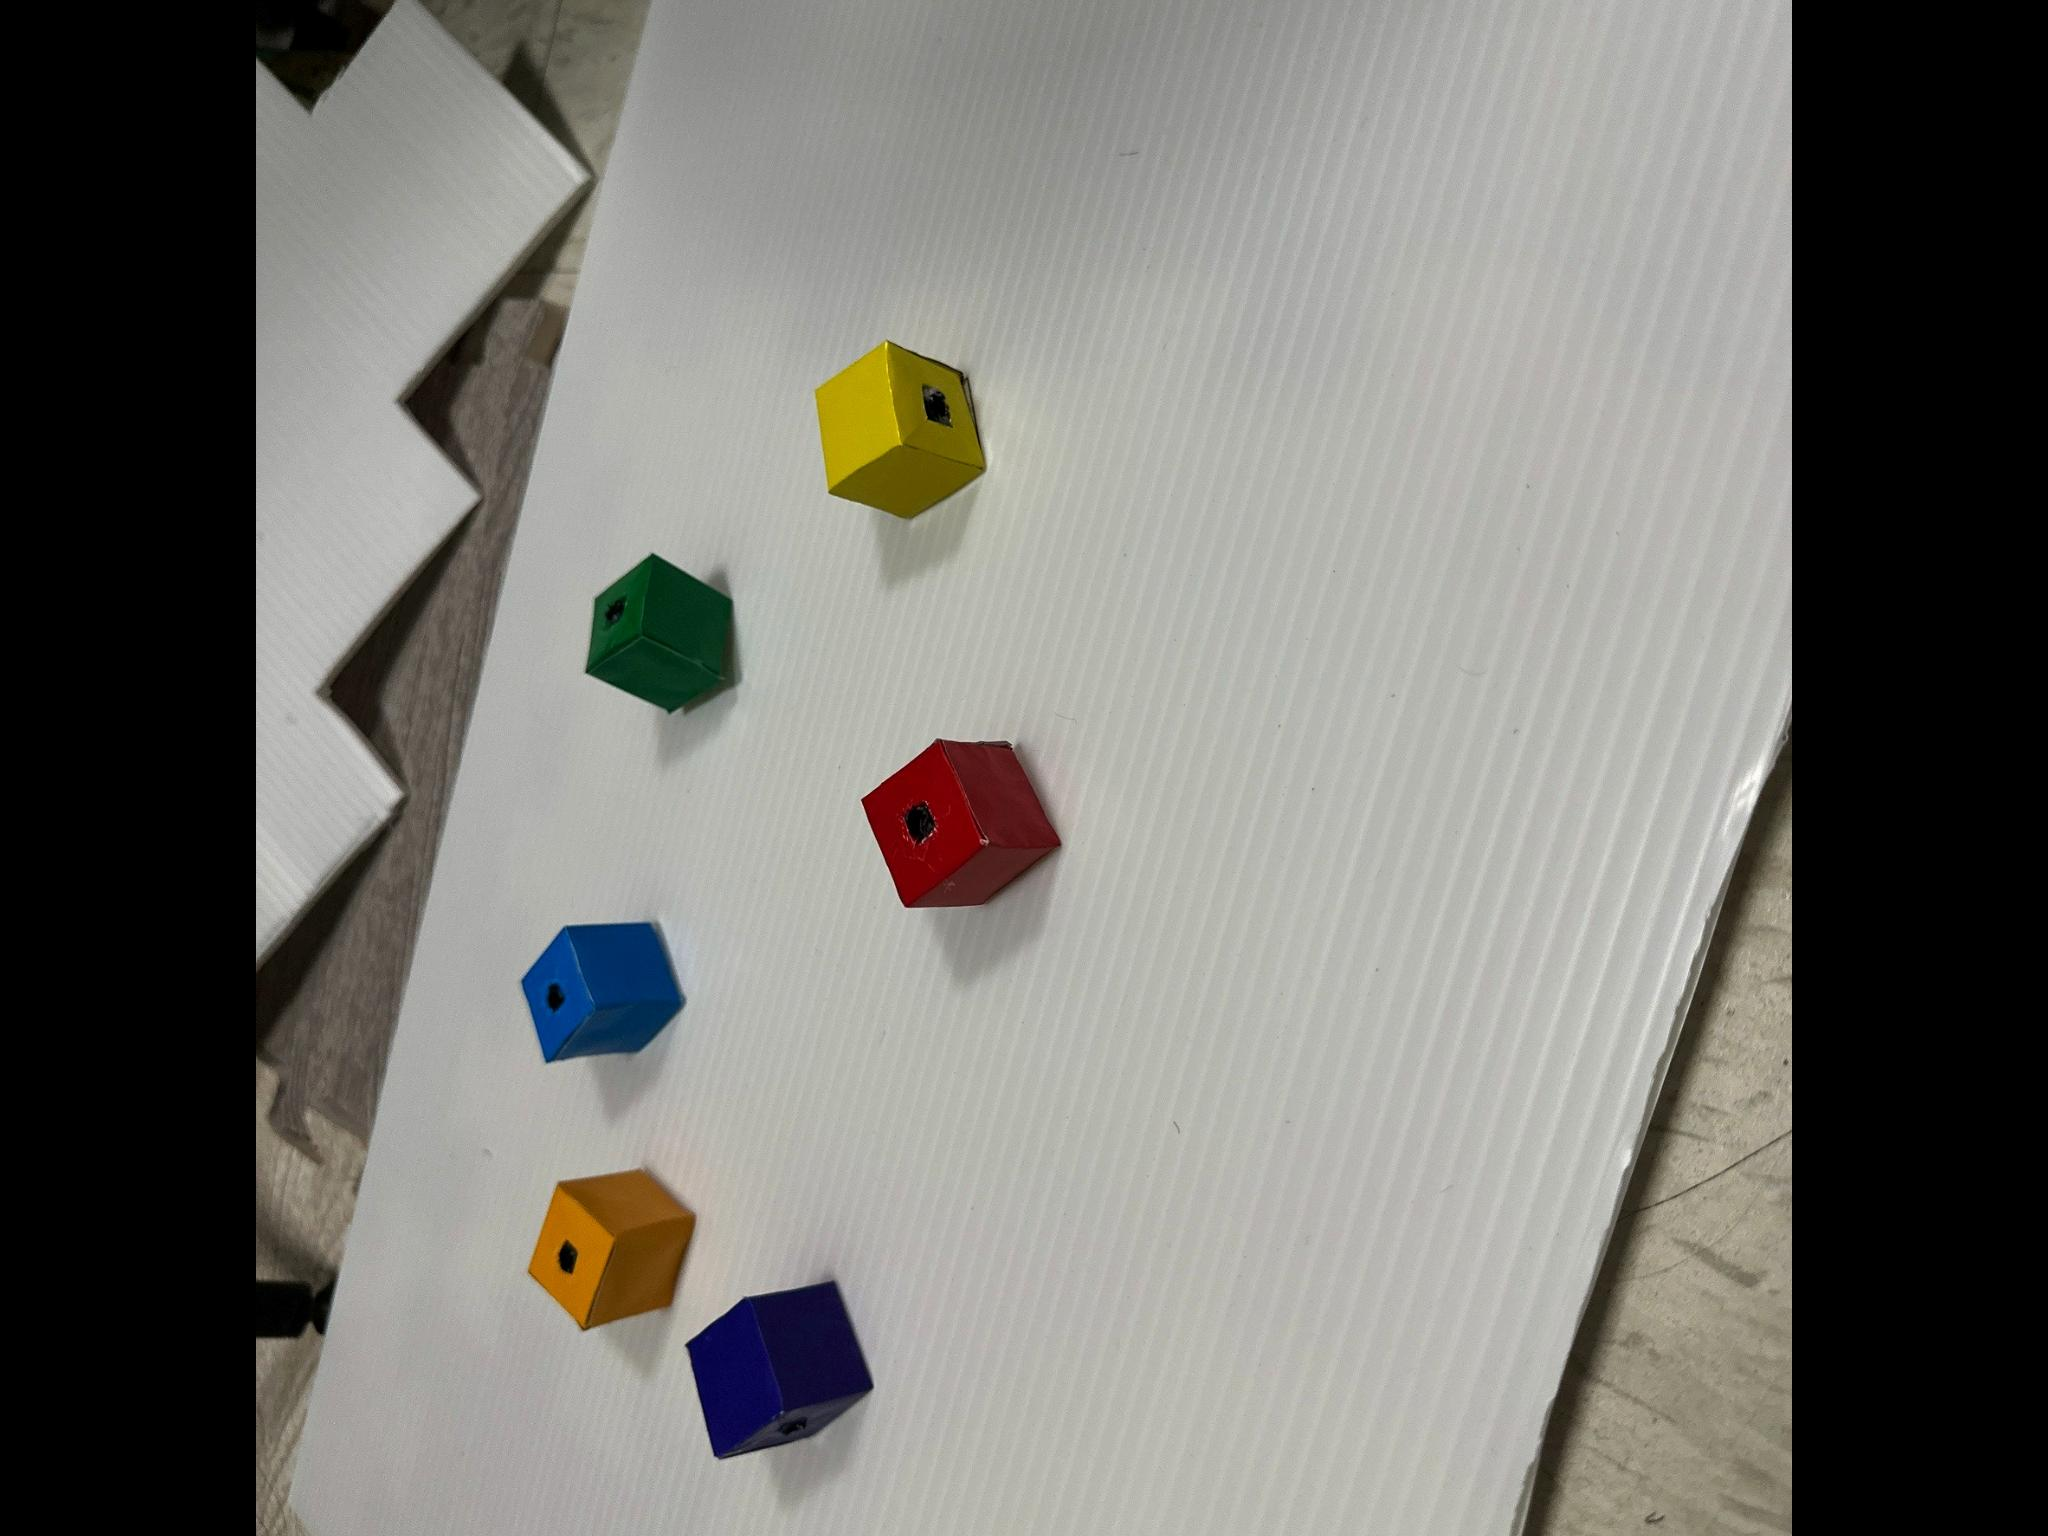cube: (863, 739, 1059, 905), (687, 1281, 871, 1455), (816, 342, 984, 516), (529, 1170, 692, 1328), (585, 553, 731, 710), (521, 923, 682, 1060)
